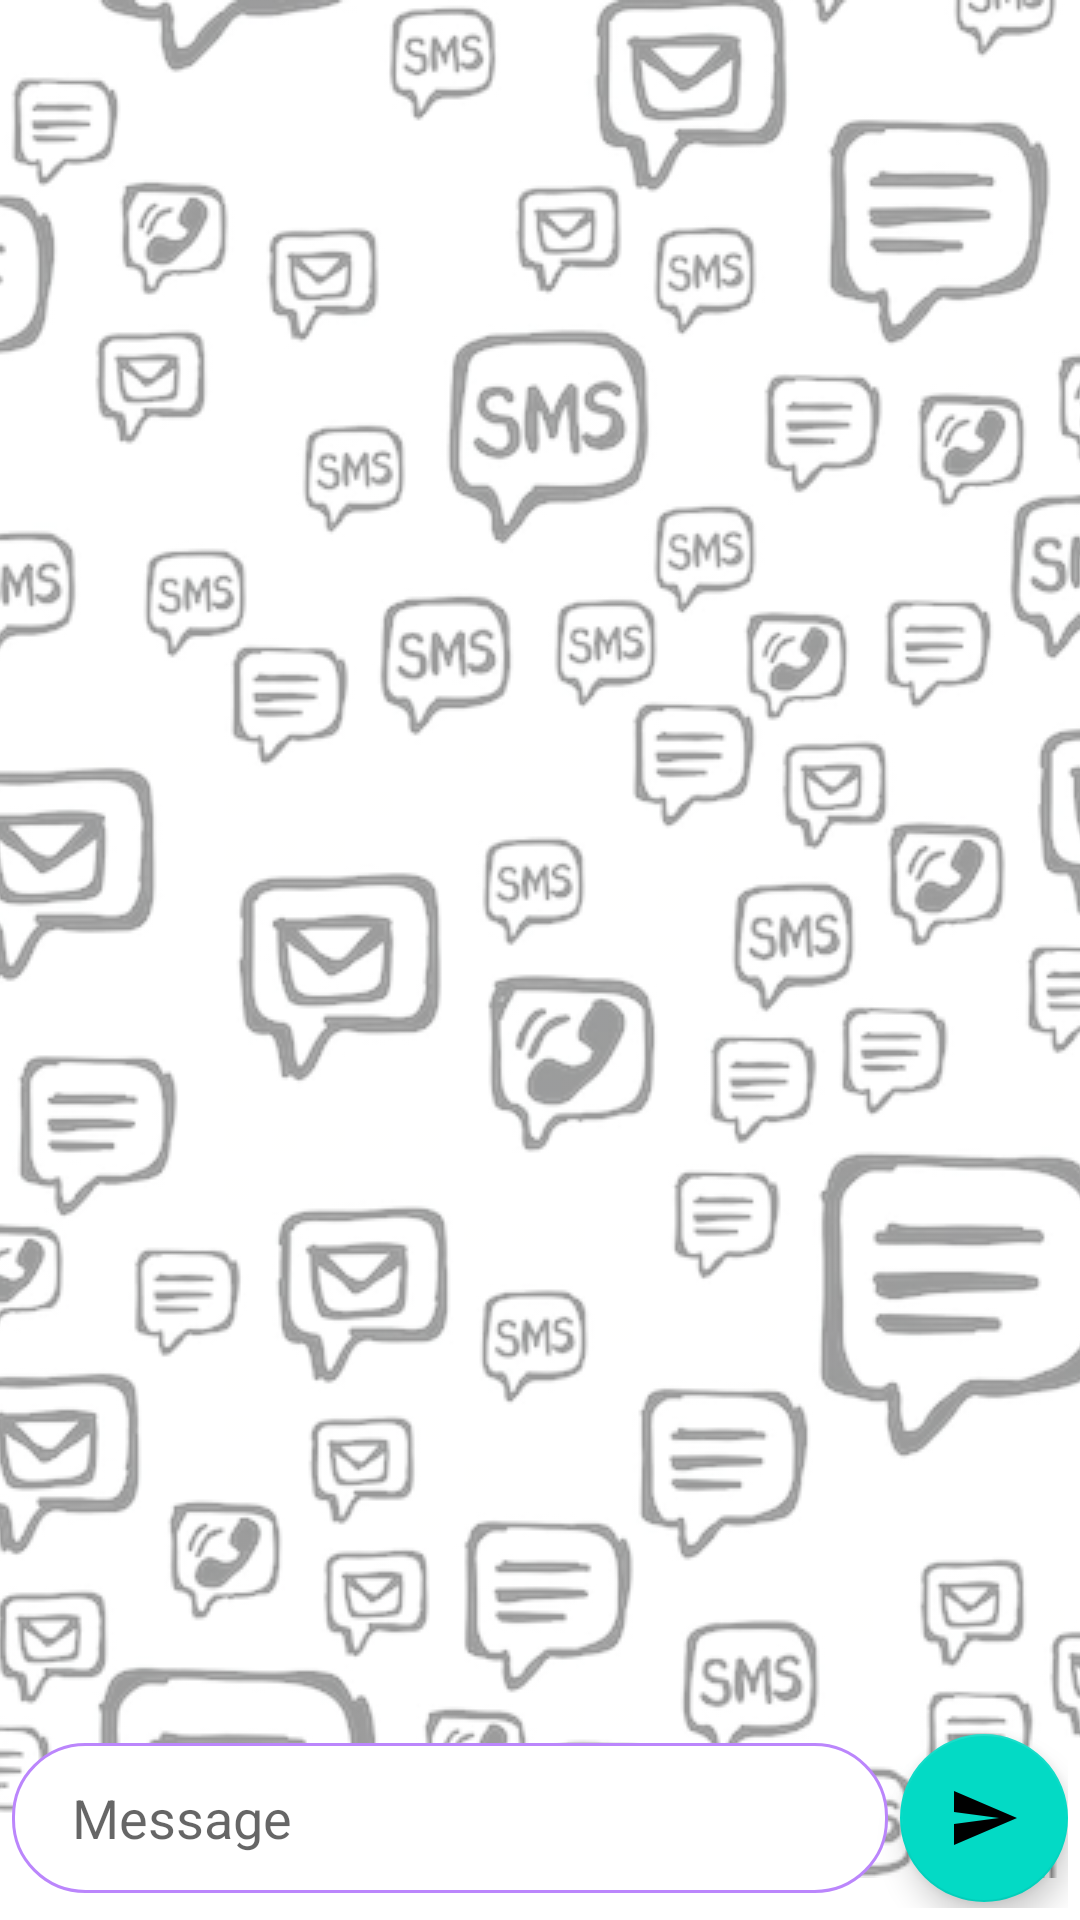

Where to tap for icons on this 1080x1920 app screen, as point (x, y):
send: point (984, 1818)
